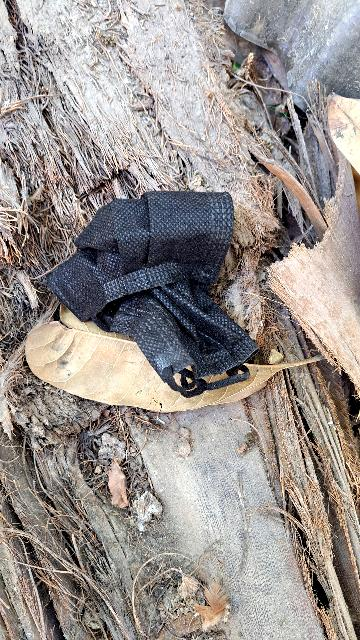mask: (37, 181, 286, 426)
